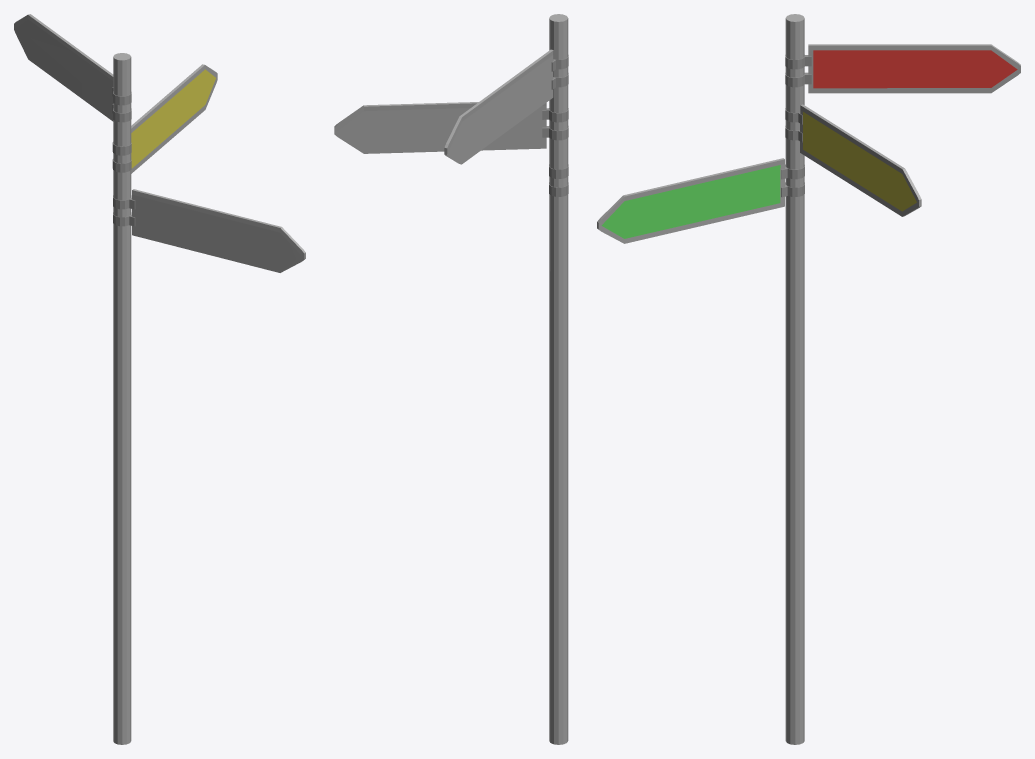
Rendered from direction sign 3.fbx.
3 views of the same model, side by side, from view 1: azimuth 30°, elevation 25°; view 2: azimuth 150°, elevation 25°; view 3: azimuth 270°, elevation 25° (orthographic). The views are drawn at different scales.
Parts seen in each view (by area): view 1: Cylinder; view 2: Cylinder; view 3: Cylinder.
Boxes of the visible parts, <box> form: Cylinder: <box>14,14,305,744</box>; Cylinder: <box>334,14,568,744</box>; Cylinder: <box>597,14,1020,744</box>.
Size of the model in its own units: 755 by 3044 by 1617.
